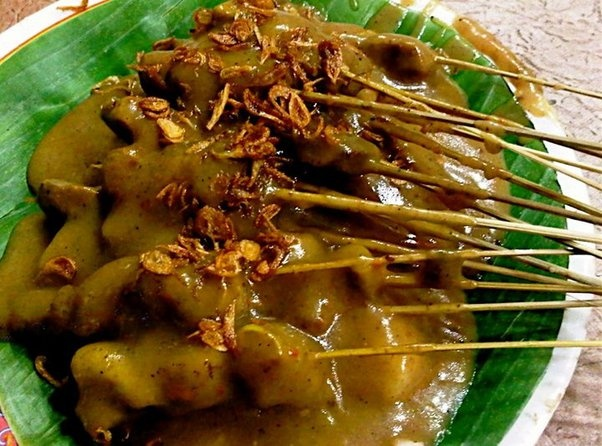sate_madura: (43, 6, 602, 416)
